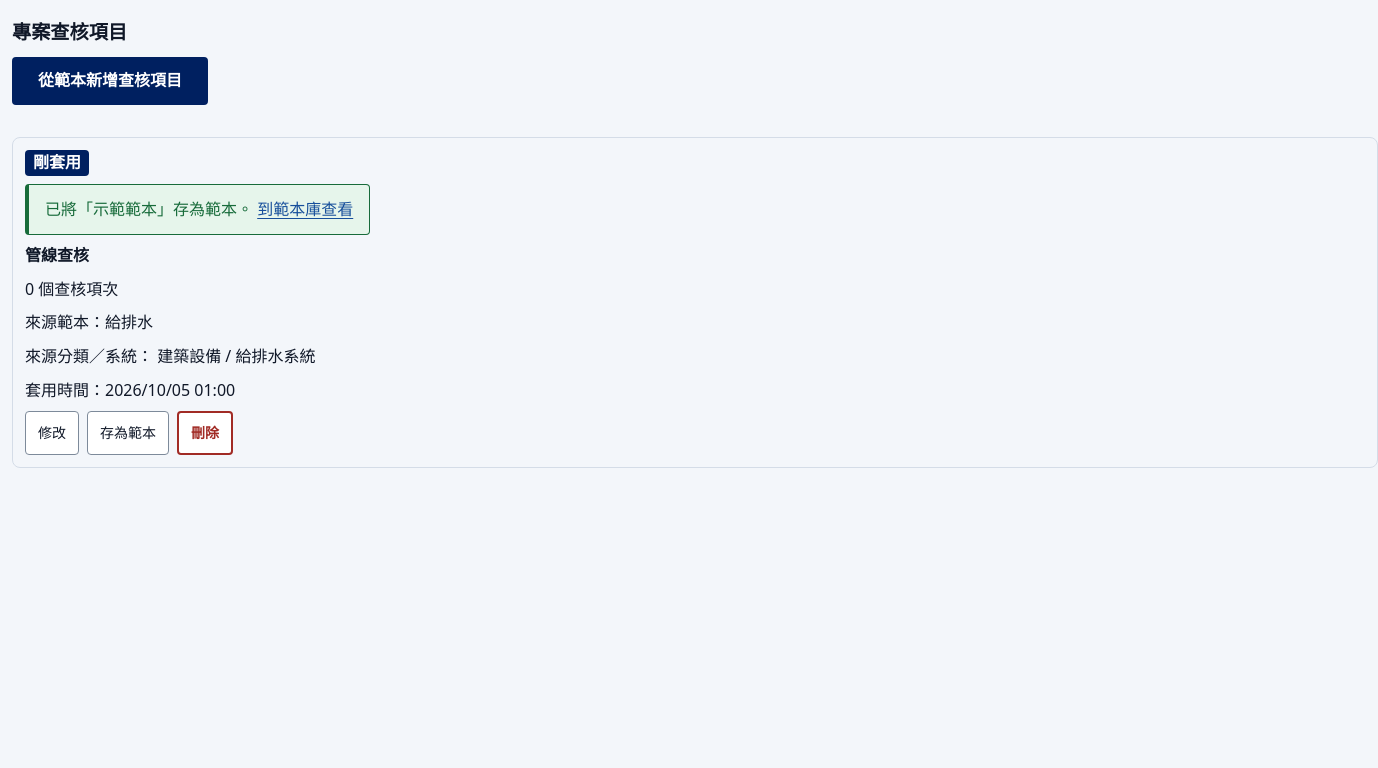
Test: ProjectItemLinks › shows source, applied time, and new-item highlight
Expected: the text "來源範本：給排水" is shown, [25,310,153,336]
Expected: the text "來源分類／系統： 建築設備 / 給排水系統" is shown, [25,344,316,370]
Click the button with aria-label "刪除「管線查核」" at coordinates (205, 433), box [177,411,233,455]
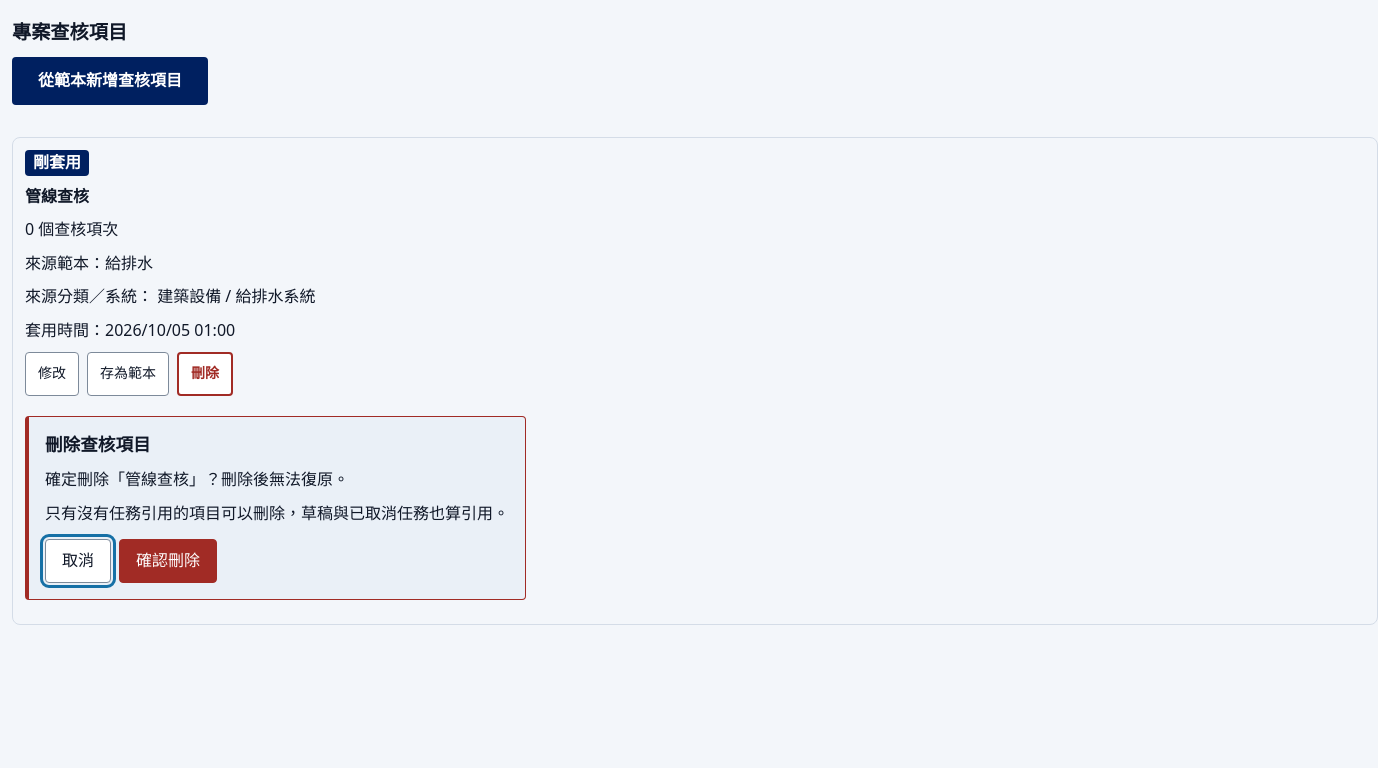
Expected: the link with aria-label "修改「管線查核」" reads "修改", [25,352,79,396]
Expected: the link "到範本庫查看" is gone
